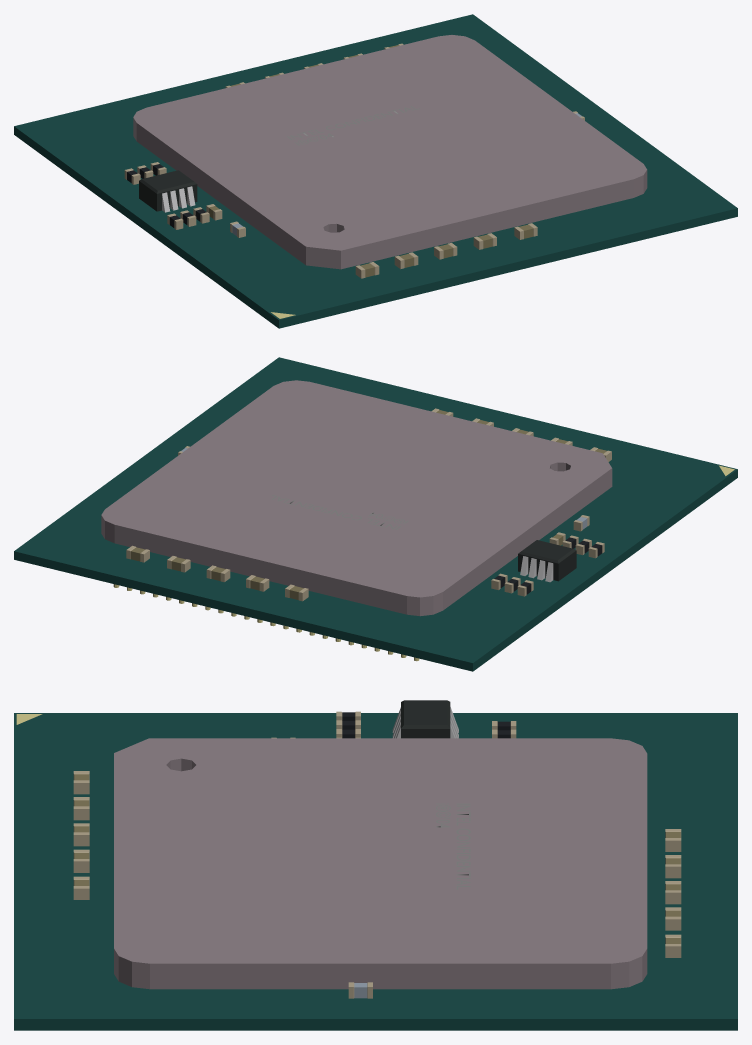
File: 053-intel-xeon-sl6vn-socket-604.glb
The picture shows the model from 3 angles, top to bottom: view 1: azimuth 30°, elevation 25°; view 2: azimuth 150°, elevation 25°; view 3: azimuth 270°, elevation 25°; orthographic projection. The views are drawn at different scales.
Visible parts, largest first — view 1: Object_2; view 2: Object_2; view 3: Object_2.
Boxes of the visible parts, <box> form: Object_2: <box>14,14,737,328</box>; Object_2: <box>14,357,737,671</box>; Object_2: <box>14,700,737,1030</box>.
Bounding box in the file's own units: 9.74 × 0.9307 × 9.74.
1 material, 1 textured.
